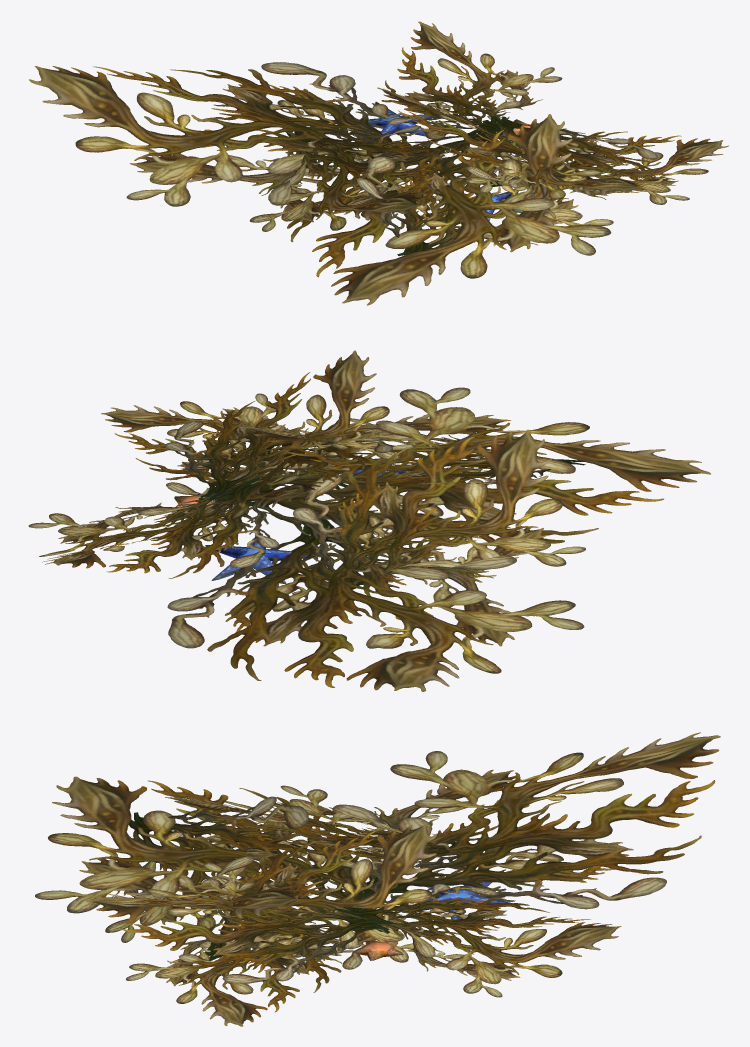
Rendered from borean_seaweed_01.obj.
3 renders of one model, top to bottom at view 1: azimuth 30°, elevation 25°; view 2: azimuth 150°, elevation 25°; view 3: azimuth 270°, elevation 25°, orthographic. The views are drawn at different scales.
Visible parts, largest first — view 1: Geoset1, Geoset0; view 2: Geoset1, Geoset0; view 3: Geoset1, Geoset0.
Part boxes in pixels (x1,y1,x2,y2): Geoset1: (29, 21, 728, 305); Geoset0: (337, 101, 530, 220); Geoset1: (28, 350, 710, 691); Geoset0: (171, 464, 410, 584); Geoset1: (35, 732, 720, 1026); Geoset0: (236, 878, 520, 960).
Bounding box in the file's own units: 5 × 0.6595 × 5.27.
Materials: 2 (2 with a texture image).
